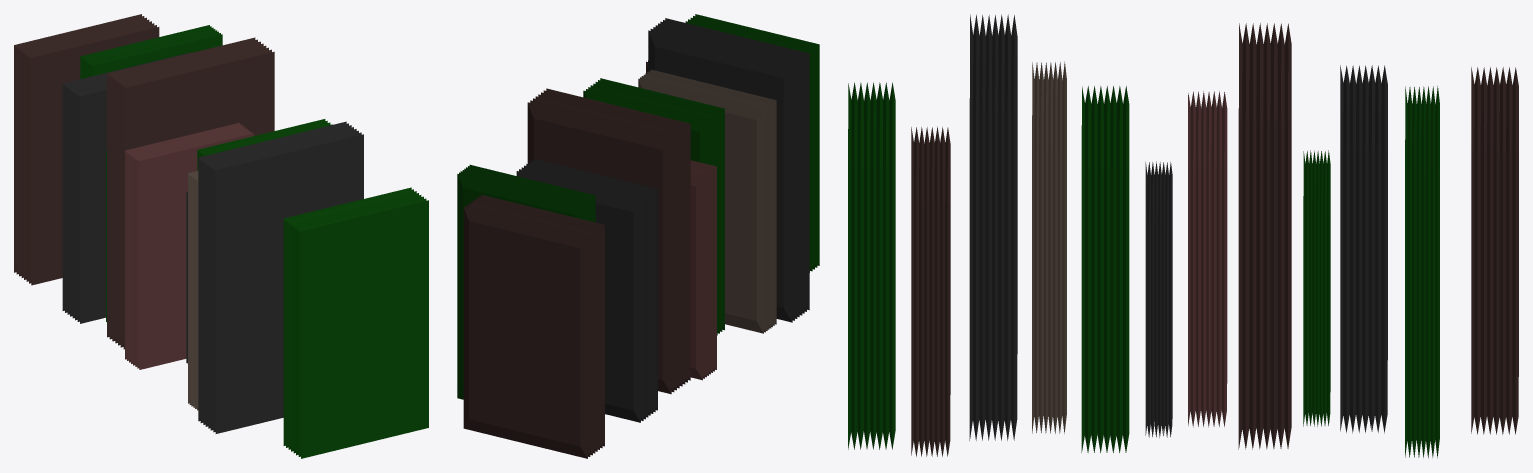
The model's file is Livres_3.fbx.
3 renders of one model, left to right at view 1: azimuth 30°, elevation 25°; view 2: azimuth 150°, elevation 25°; view 3: azimuth 270°, elevation 25°, orthographic. The views are drawn at different scales.
Visible parts, largest first — view 1: pCube2747, pCube2773, pCube2755, pCube2754, pCube2765, pCube2761, pCube2767, pCube2769, pCube2762, pCube2740, pCube2750, pCube2742 (+14 smaller); view 2: pCube2741, pCube2750, pCube2742, pCube2745, pCube2743, pCube2763, pCube2755, pCube2748, pCube2773, pCube2761, pCube2765, pCube2744 (+14 smaller); view 3: pCube2755, pCube2767, pCube2750, pCube2742, pCube2769, pCube2773, pCube2768, pCube2746, pCube2744, pCube2771, pCube2765, pCube2761 (+24 smaller).
Boxes of the visible parts, x1,y1,x2,y2 form: pCube2747: [296, 196, 428, 458]; pCube2773: [210, 130, 363, 433]; pCube2755: [120, 47, 274, 349]; pCube2754: [135, 130, 254, 369]; pCube2765: [26, 23, 159, 285]; pCube2761: [75, 85, 106, 323]; pCube2767: [112, 41, 266, 345]; pCube2769: [203, 125, 356, 428]; pCube2762: [288, 191, 421, 453]; pCube2740: [19, 17, 151, 279]; pCube2750: [107, 37, 257, 340]; pCube2742: [198, 121, 348, 422]; pCube2741: [463, 203, 592, 458]; pCube2750: [527, 98, 676, 394]; pCube2742: [648, 27, 797, 322]; pCube2745: [638, 76, 767, 333]; pCube2743: [516, 167, 645, 422]; pCube2763: [457, 171, 586, 399]; pCube2755: [541, 88, 690, 384]; pCube2748: [690, 170, 706, 380]; pCube2773: [660, 18, 809, 313]; pCube2761: [528, 158, 657, 413]; pCube2765: [475, 194, 604, 449]; pCube2744: [595, 78, 724, 333]; pCube2755: [1238, 23, 1256, 449]; pCube2767: [1256, 23, 1274, 449]; pCube2750: [1274, 23, 1291, 448]; pCube2742: [1001, 14, 1017, 440]; pCube2769: [985, 15, 1001, 440]; pCube2773: [969, 14, 985, 440]; pCube2768: [1097, 86, 1113, 452]; pCube2746: [1113, 86, 1129, 452]; pCube2744: [1081, 86, 1097, 452]; pCube2771: [879, 82, 895, 449]; pCube2765: [1471, 67, 1487, 434]; pCube2761: [1340, 65, 1356, 433].
Size of the model in its own units: 11.73 by 16.75 by 30.09.
